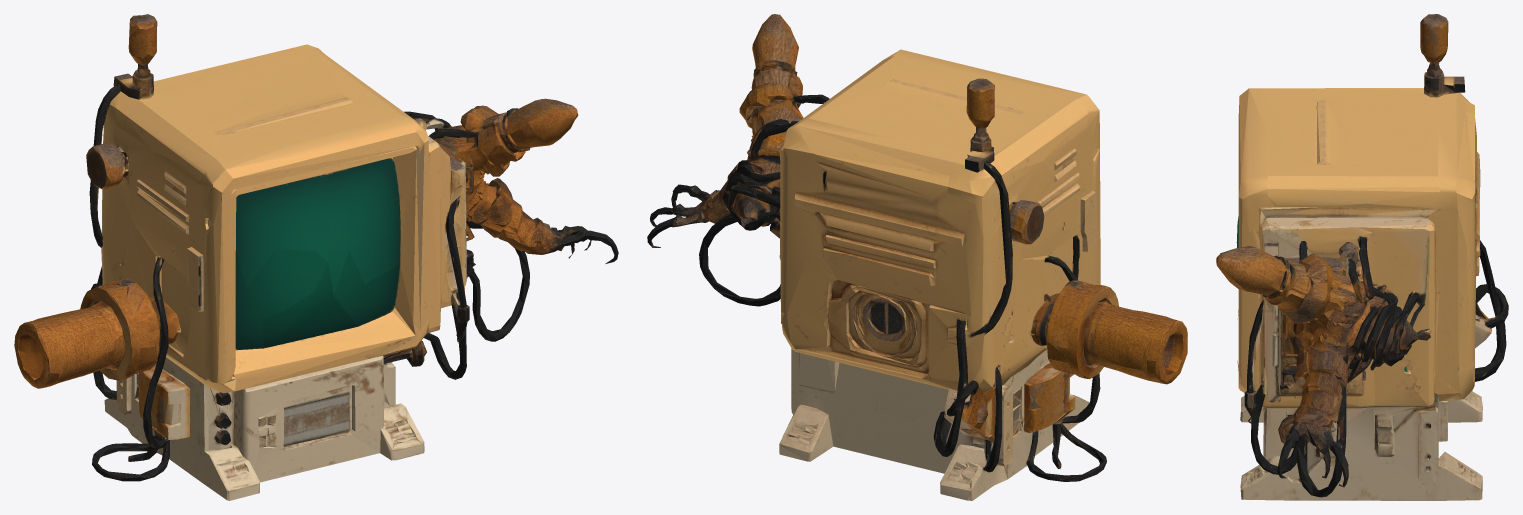
File: kiosk_turret.glb
The picture shows the model from 3 angles, left to right: view 1: azimuth 30°, elevation 25°; view 2: azimuth 150°, elevation 25°; view 3: azimuth 270°, elevation 25°; orthographic projection. The views are drawn at different scales.
Size of the model in its own units: 1.9 by 1.35 by 0.8982.
1 material, 1 textured.
